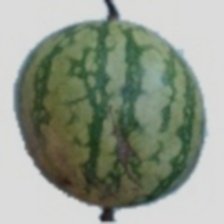watermelon: (11, 29, 184, 224)
